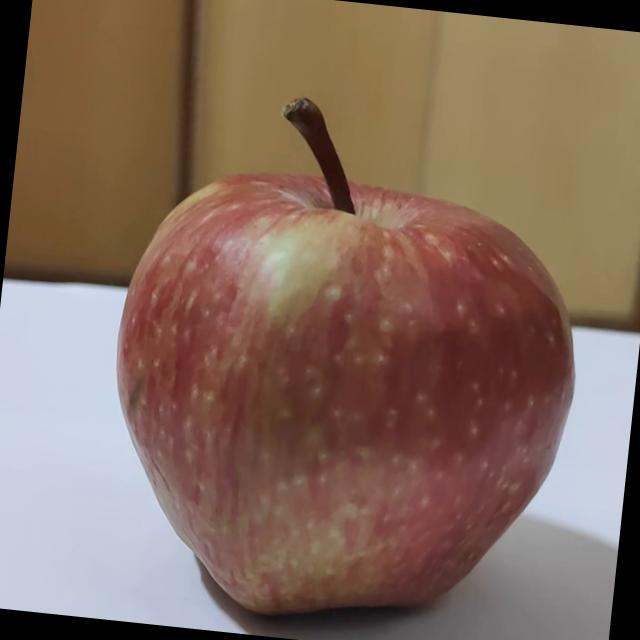apple: (90, 81, 600, 640)
